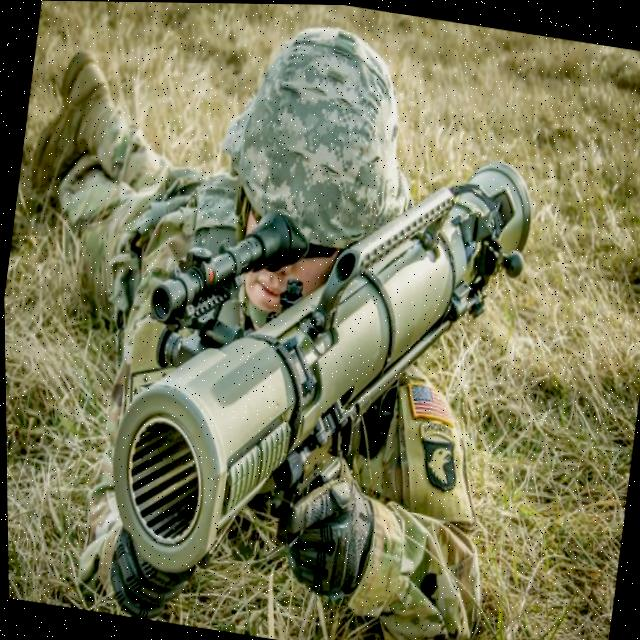rocket: (96, 104, 545, 612)
